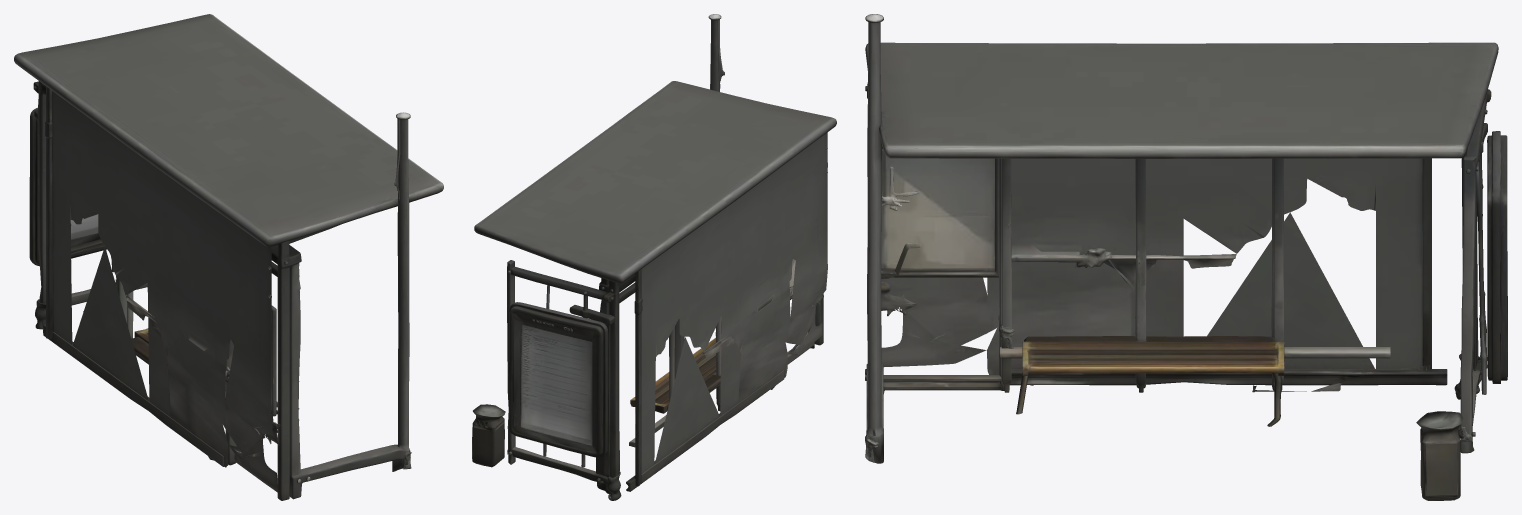
File: mall_bus_stop.glb
The picture shows the model from 3 angles, left to right: view 1: azimuth 30°, elevation 25°; view 2: azimuth 150°, elevation 25°; view 3: azimuth 270°, elevation 25°; orthographic projection. The views are drawn at different scales.
Visible parts, largest first — view 1: tripo_node_4d319af3-be65-41b6-b502-af118059dd1d; view 2: tripo_node_4d319af3-be65-41b6-b502-af118059dd1d; view 3: tripo_node_4d319af3-be65-41b6-b502-af118059dd1d.
Part boxes in pixels (x1,y1,x2,y2): tripo_node_4d319af3-be65-41b6-b502-af118059dd1d: (14,14,443,500); tripo_node_4d319af3-be65-41b6-b502-af118059dd1d: (472,14,836,500); tripo_node_4d319af3-be65-41b6-b502-af118059dd1d: (865,14,1507,500).
Bounding box in the file's own units: 1.38 × 2.5 × 3.19.
Materials: 1 (1 with a texture image).
